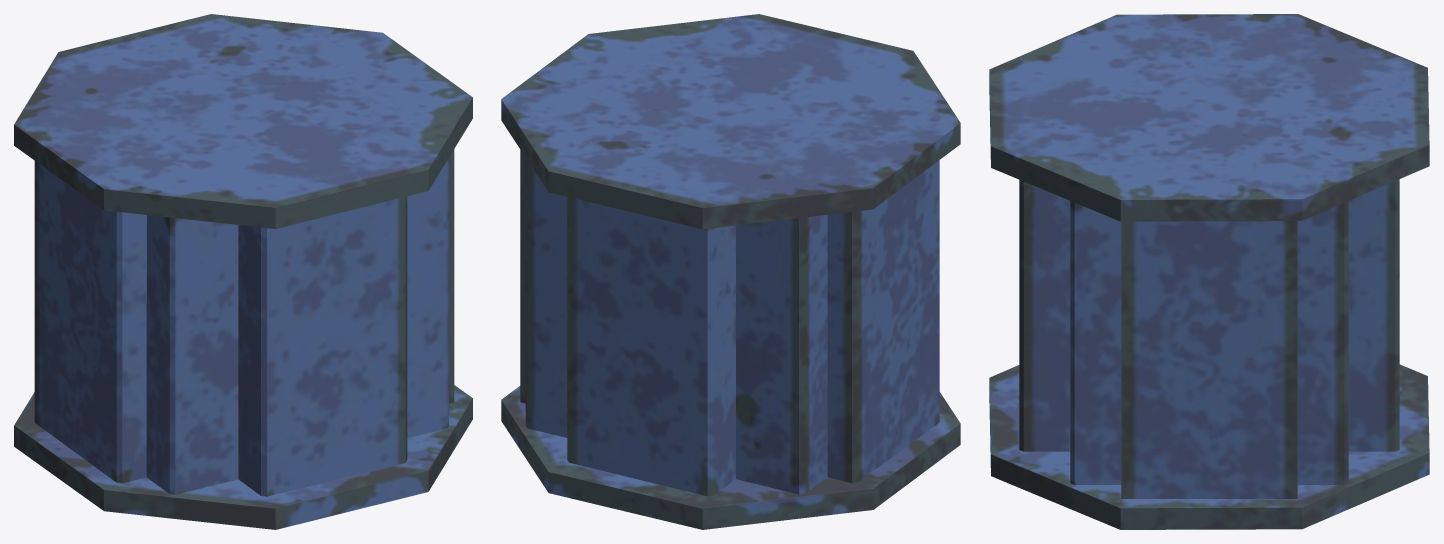
File: JuntaColuna.fbx
3 renders of one model, left to right at view 1: azimuth 30°, elevation 25°; view 2: azimuth 150°, elevation 25°; view 3: azimuth 270°, elevation 25°, orthographic. The views are drawn at different scales.
Visible parts, largest first — view 1: JuntaColuna; view 2: JuntaColuna; view 3: JuntaColuna.
Boxes of the visible parts, x1,y1,x2,y2 form: JuntaColuna: [14, 14, 472, 529]; JuntaColuna: [501, 14, 960, 529]; JuntaColuna: [989, 14, 1429, 529].
Size of the model in its own units: 141 by 116 by 141.
